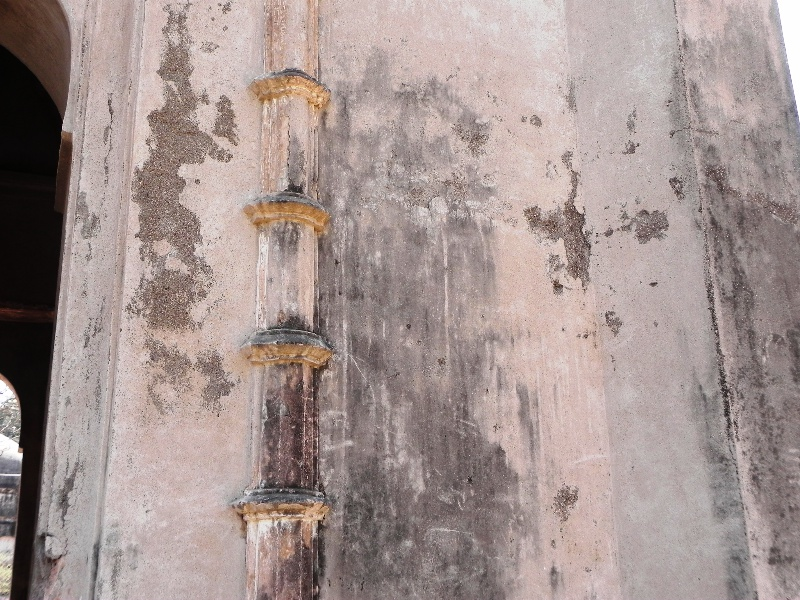Spalling: (131, 11, 230, 408), (527, 150, 596, 295), (621, 197, 679, 247)
